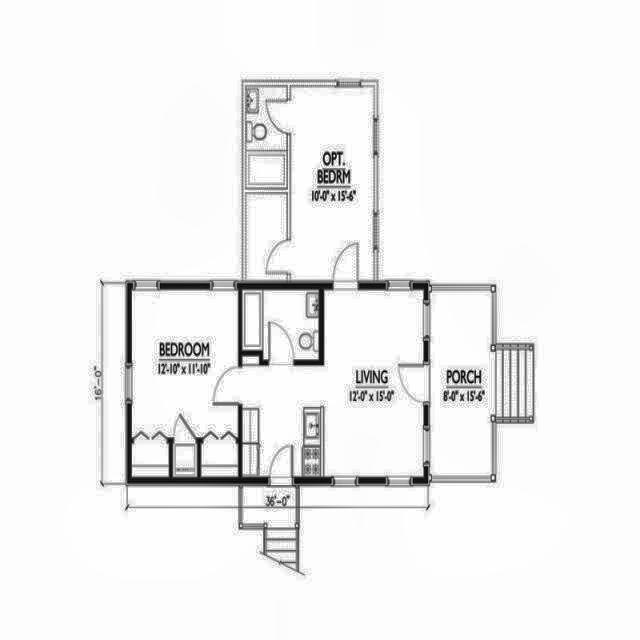room: (241, 290, 423, 475), (247, 87, 373, 280), (133, 291, 237, 476), (430, 291, 494, 475), (241, 292, 318, 360)
